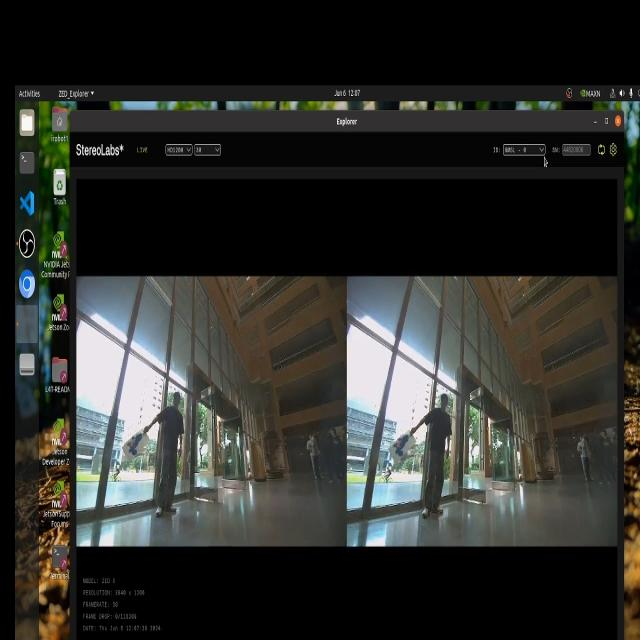blue: (126, 420, 146, 456), (394, 428, 406, 462)
